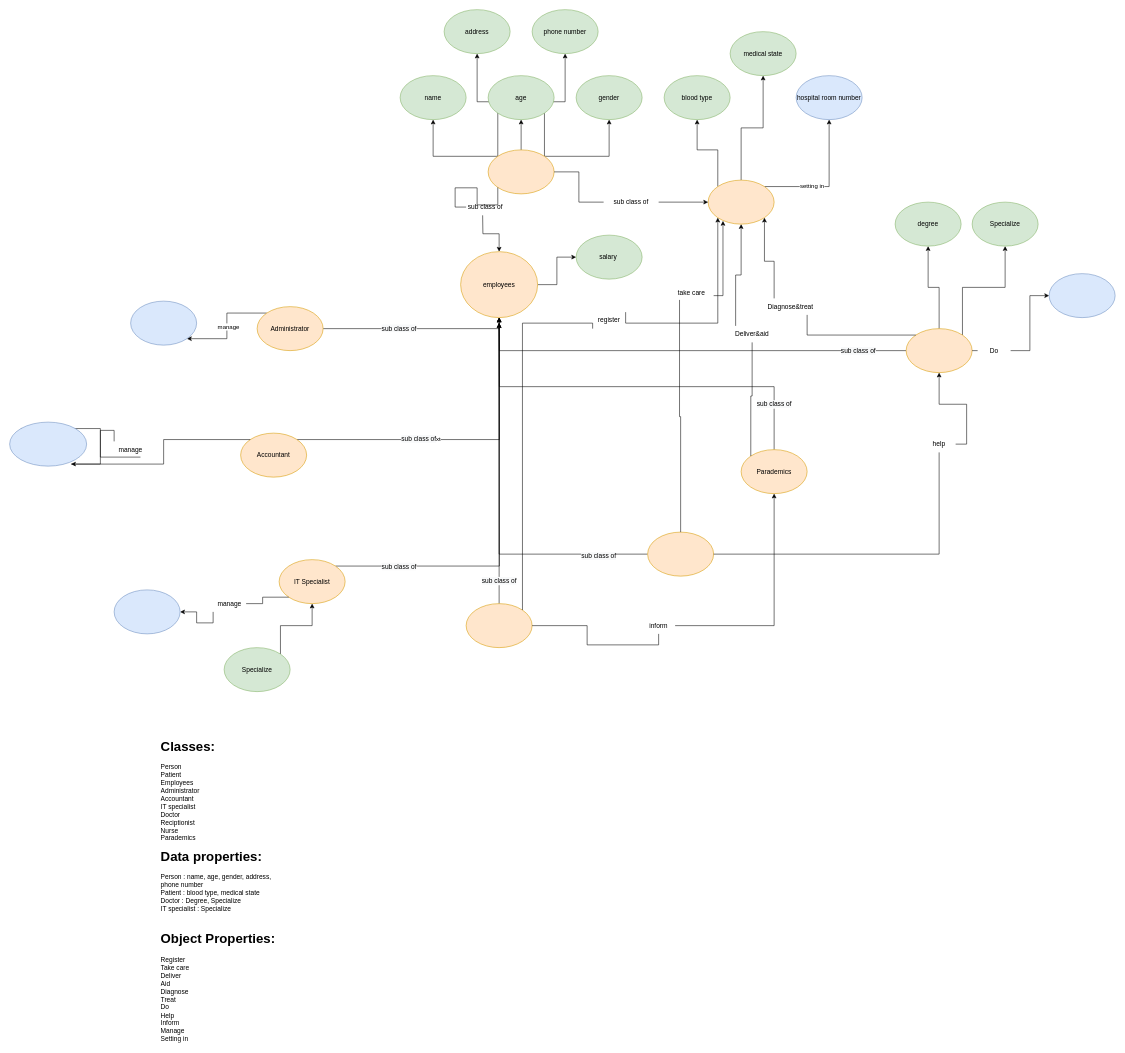
Image size: 1125x1053. Some labels were removed from this diagram. Each missing label, with the box of its shape:
Doctor: (906, 328, 972, 373)
Finances management: (9, 422, 87, 466)
Hospital management: (130, 301, 197, 345)
Nurse: (647, 532, 714, 576)
patient: (708, 180, 774, 224)
person: (488, 149, 554, 194)
Reciptionist: (466, 603, 532, 648)
Surgery operation: (1049, 273, 1115, 318)
System management: (114, 589, 180, 634)
